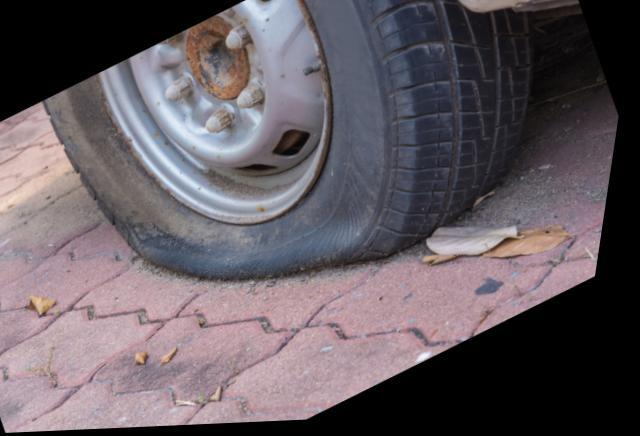tire flat: (46, 0, 537, 284)
